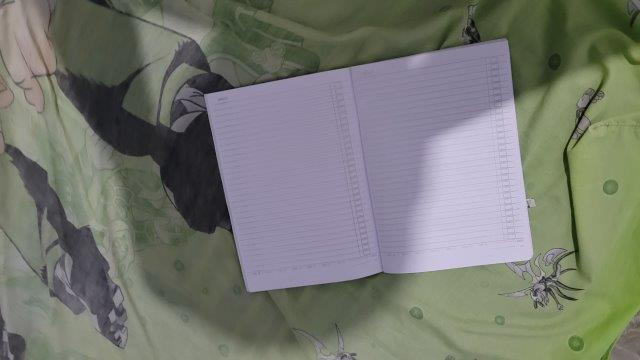kertas: (204, 41, 533, 295)
